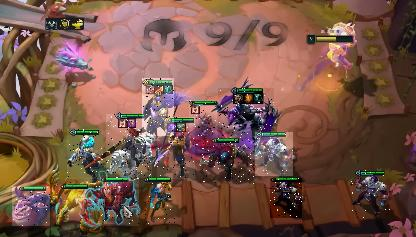1_hecarim: (91, 178, 139, 226)
1_idas: (52, 177, 92, 231)
1_leesin: (142, 178, 176, 224)
1_nomsy: (12, 186, 50, 226)
1_rengar: (200, 138, 254, 184)
1_sylas: (270, 178, 302, 218)
1_zyra: (189, 100, 217, 146)
2_graves: (67, 129, 103, 179)
2_rell: (106, 114, 152, 178)
2_syfen: (218, 88, 274, 140)
2_sylas: (350, 170, 390, 218), (255, 132, 293, 176)
3_aphelios: (157, 117, 195, 179)
3_pantheon: (142, 78, 174, 136)
